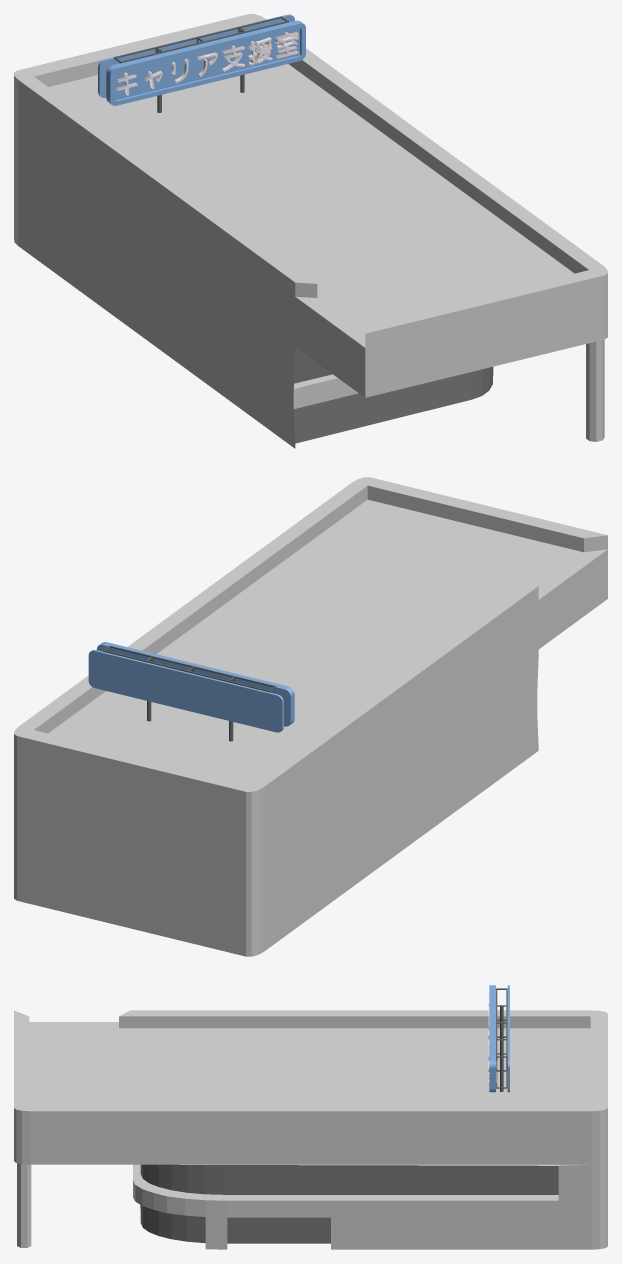
The model's file is map_career.glb.
The picture shows the model from 3 angles, top to bottom: view 1: azimuth 30°, elevation 25°; view 2: azimuth 150°, elevation 25°; view 3: azimuth 270°, elevation 25°; orthographic projection. The views are drawn at different scales.
Parts seen in each view (by area): view 1: キャリア支援室, Cube.028, テキスト.016, キャリア支援室柱, Cube.029; view 2: キャリア支援室, Cube.029, Cube.028; view 3: キャリア支援室, キャリア支援室柱, Cube.028.
Boxes of the visible parts, bbox=[...] form: キャリア支援室: bbox=[14, 14, 607, 448]; Cube.028: bbox=[106, 20, 305, 105]; テキスト.016: bbox=[116, 32, 298, 95]; キャリア支援室柱: bbox=[586, 339, 604, 441]; Cube.029: bbox=[98, 14, 294, 97]; キャリア支援室: bbox=[14, 477, 607, 956]; Cube.029: bbox=[88, 650, 283, 732]; Cube.028: bbox=[96, 642, 294, 726]; キャリア支援室: bbox=[14, 1010, 607, 1249]; キャリア支援室柱: bbox=[17, 1163, 31, 1247]; Cube.028: bbox=[489, 985, 495, 1092].
Size of the model in its own units: 14.1 by 11.67 by 35.08.
